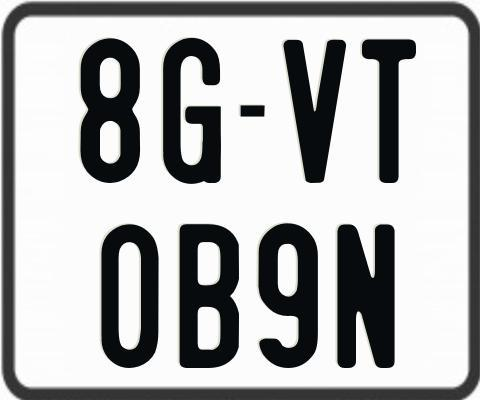0: (98, 224, 157, 374)
8: (78, 35, 144, 180)
9: (255, 222, 319, 369)
B: (178, 224, 241, 370)
G: (160, 36, 221, 184)
N: (335, 224, 397, 374)
T: (362, 36, 422, 184)
V: (280, 37, 346, 184)
